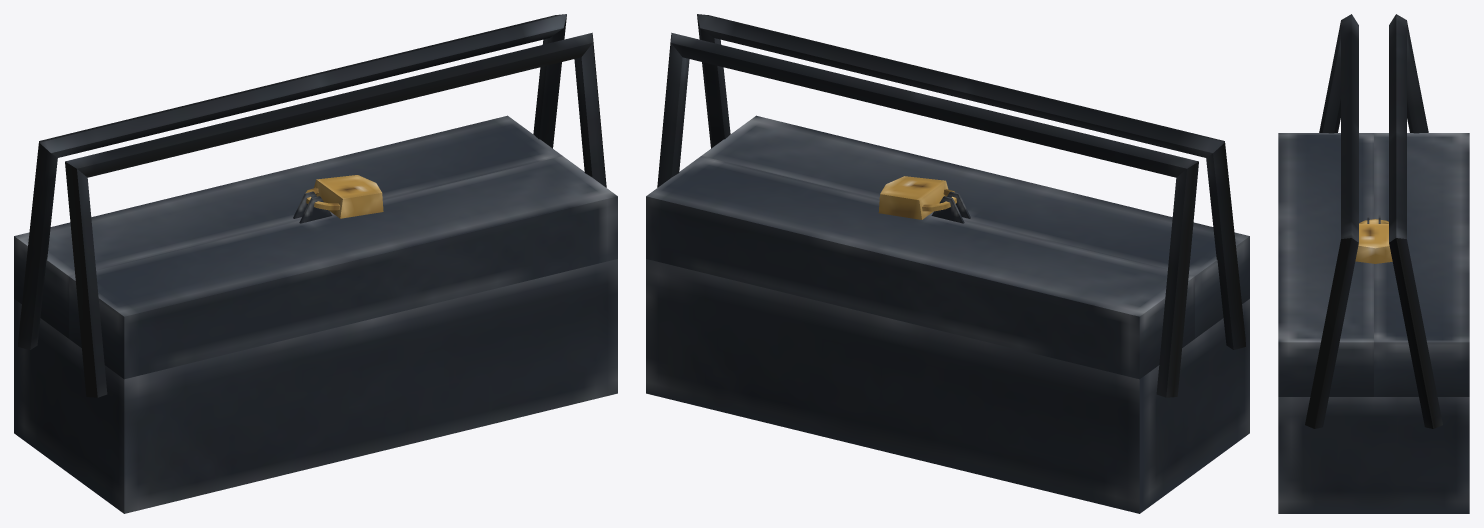
The model's file is toolbox_closed.FBX.
3 views of the same model, side by side, from view 1: azimuth 30°, elevation 25°; view 2: azimuth 150°, elevation 25°; view 3: azimuth 270°, elevation 25° (orthographic). The views are drawn at different scales.
Visible parts, largest first — view 1: InventoryItem_Toolbox; view 2: InventoryItem_Toolbox; view 3: InventoryItem_Toolbox.
Boxes of the visible parts, x1,y1,x2,y2 form: InventoryItem_Toolbox: [14, 14, 617, 513]; InventoryItem_Toolbox: [646, 14, 1249, 513]; InventoryItem_Toolbox: [1278, 14, 1469, 513].
Size of the model in its own units: 539 by 195 by 318.
1 material, 1 textured.
